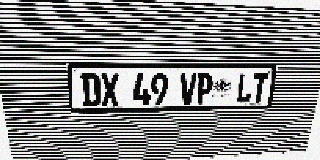4: (133, 73, 151, 105)
9: (151, 73, 168, 105)
D: (80, 73, 101, 107)
L: (236, 73, 254, 103)
P: (196, 73, 214, 104)
T: (251, 73, 269, 103)
V: (179, 73, 197, 104)
X: (100, 73, 119, 106)
